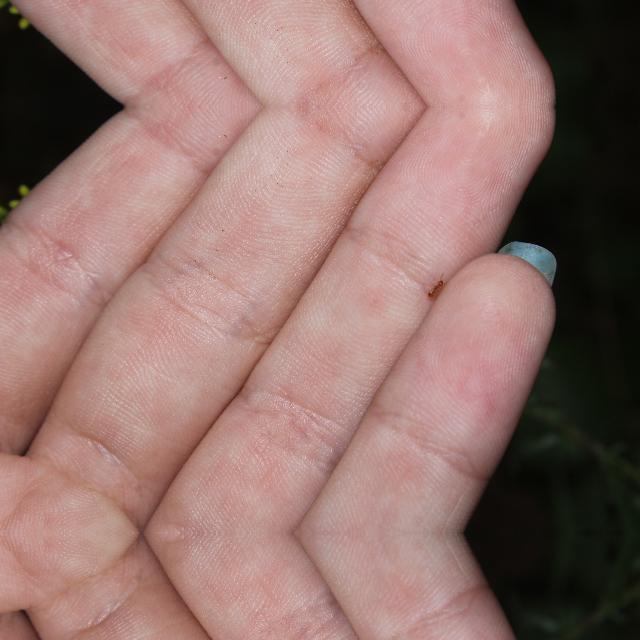Temnothorax: (420, 274, 450, 300)
